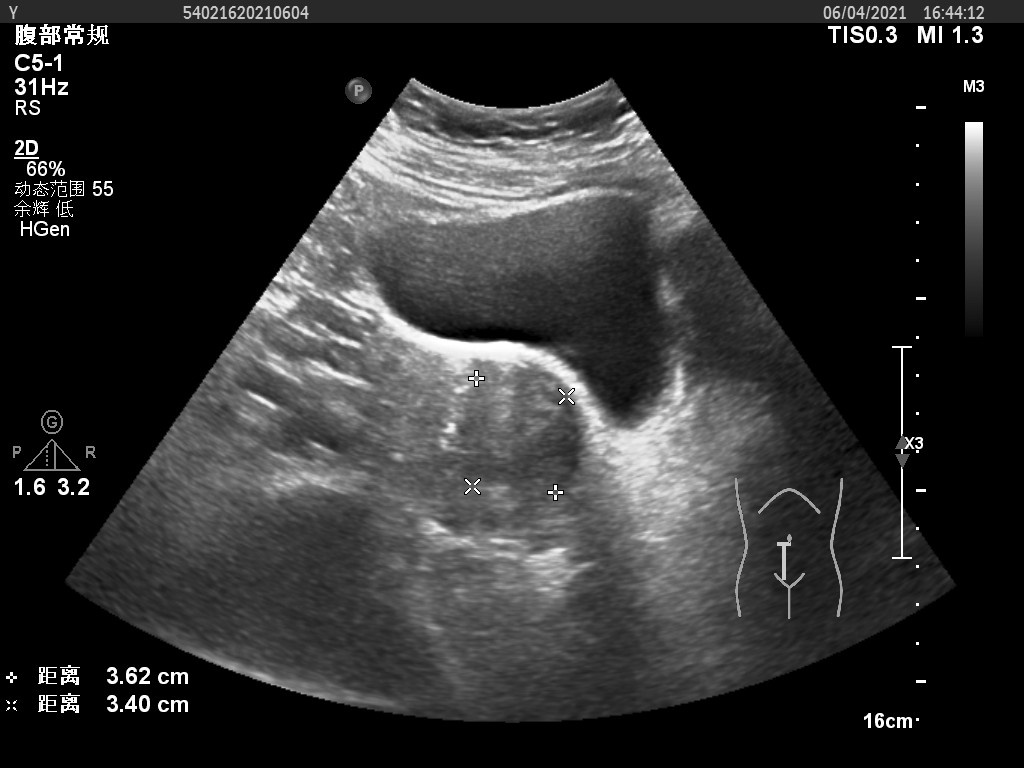肌瘤: (468, 378, 566, 481)
